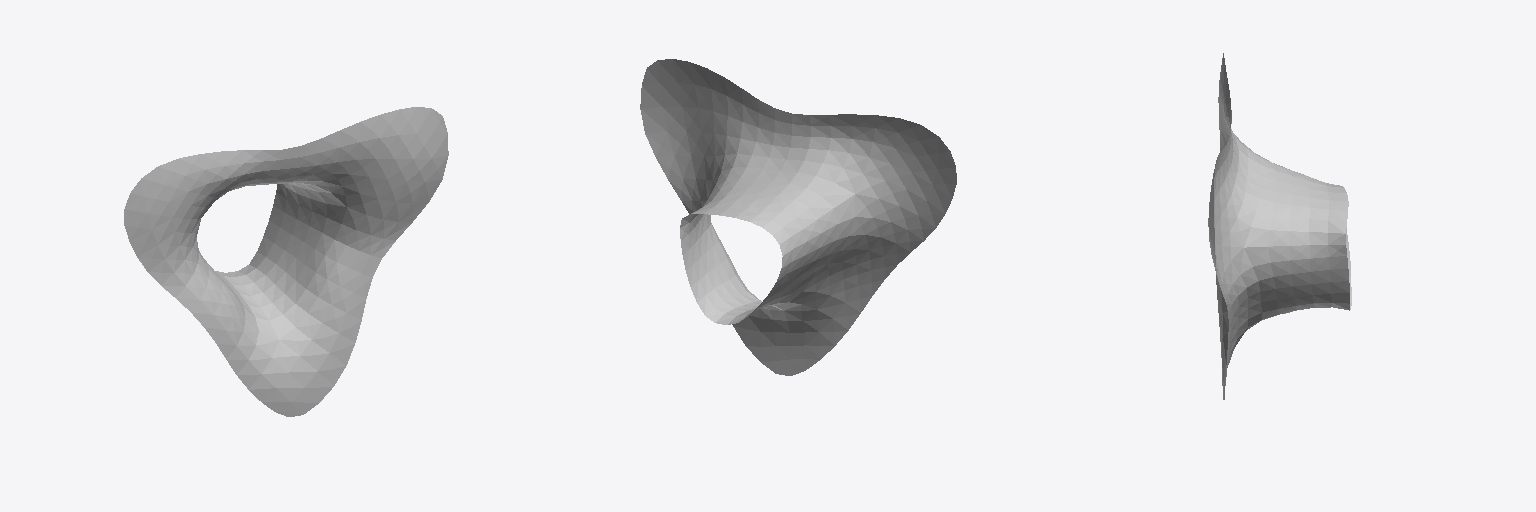
File: tw2_opt_quad.obj
3 renders of one model, left to right at view 1: azimuth 30°, elevation 25°; view 2: azimuth 150°, elevation 25°; view 3: azimuth 270°, elevation 25°, orthographic.
Bounding box in the file's own units: 77.34 × 66.13 × 30.